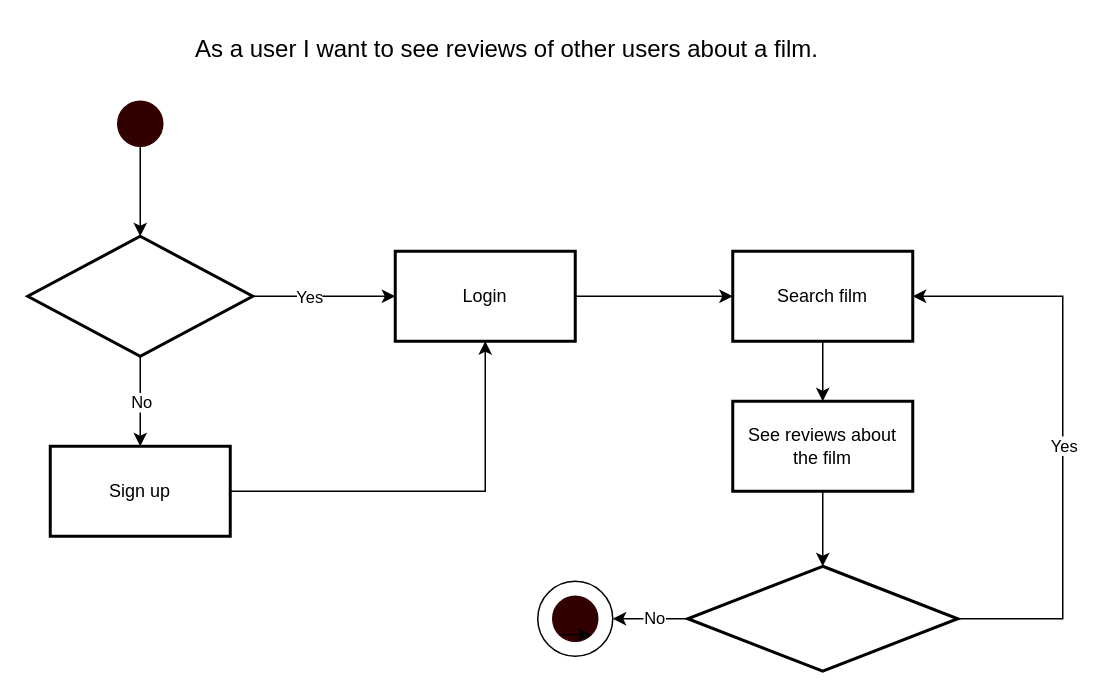
The diagram is 1103 pixels wide and 698 high, and some of its shapes have lost their labels. The shapes that lost their labels are listed below. From the top down, each one's centre as x and y in pixels, then its label:
point (140, 295): User is registreded?
point (822, 618): Do you want to search another film?
